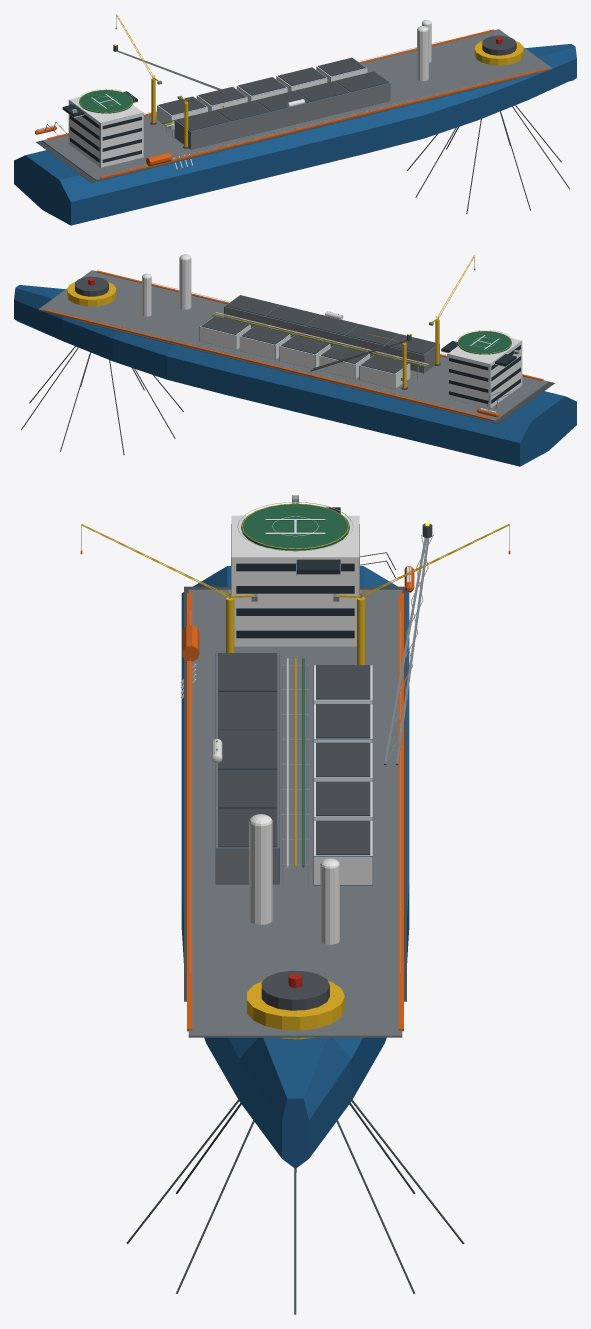
Rendered from off_fpso.glb.
3 views of the same model, one above another, from view 1: azimuth 30°, elevation 25°; view 2: azimuth 150°, elevation 25°; view 3: azimuth 270°, elevation 25° (orthographic). The views are drawn at different scales.
Visible parts, largest first — view 1: off_fpso; view 2: off_fpso; view 3: off_fpso.
Boxes of the visible parts, left/top/right/bottom form: off_fpso: left=14, top=14, right=576, bottom=225; off_fpso: left=14, top=254, right=576, bottom=466; off_fpso: left=80, top=495, right=510, bottom=1314.
Size of the model in its own units: 248 by 91.17 by 86.85.
